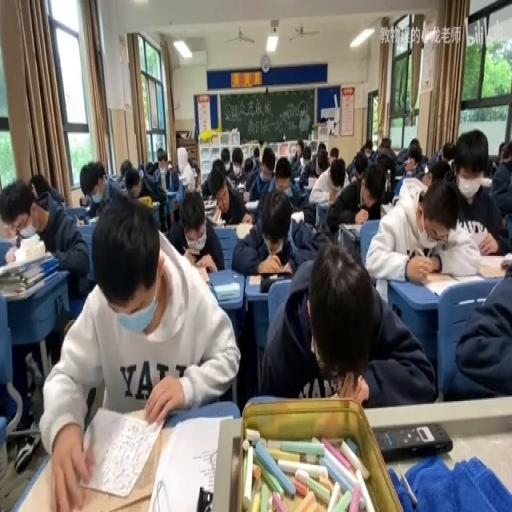calculator: (22, 405, 165, 509), (146, 414, 231, 512), (420, 272, 462, 297), (476, 252, 510, 277), (213, 282, 241, 300), (315, 199, 330, 226), (233, 222, 254, 240), (190, 266, 211, 283), (338, 220, 362, 234), (294, 184, 313, 199), (290, 210, 304, 228), (202, 196, 217, 209), (380, 200, 392, 214), (306, 175, 318, 188), (243, 199, 258, 209), (209, 216, 225, 225), (480, 176, 492, 188), (235, 182, 245, 192), (292, 174, 302, 184), (178, 174, 187, 184), (75, 216, 85, 225), (86, 216, 98, 223), (392, 172, 402, 179), (149, 199, 158, 206)
paper: (259, 243, 432, 407), (0, 173, 90, 414), (365, 178, 480, 286), (452, 263, 512, 401), (231, 189, 317, 277), (326, 156, 381, 232), (198, 162, 250, 228), (131, 154, 170, 228), (78, 158, 118, 222), (488, 138, 511, 225), (394, 136, 426, 176), (298, 144, 328, 186), (30, 174, 66, 208), (376, 152, 398, 196), (348, 138, 373, 175), (398, 173, 428, 202), (426, 158, 451, 186), (274, 158, 290, 193), (162, 160, 178, 190), (290, 138, 304, 165), (261, 148, 275, 175), (186, 150, 198, 180), (440, 142, 456, 164), (176, 145, 188, 174), (211, 158, 226, 179), (118, 159, 132, 178), (243, 156, 254, 180), (251, 145, 261, 168), (496, 140, 506, 160), (328, 146, 338, 164), (155, 148, 166, 163), (316, 142, 325, 158), (144, 161, 154, 175), (232, 161, 242, 175), (381, 136, 390, 150), (379, 149, 389, 161), (78, 195, 88, 206), (490, 160, 496, 176), (364, 144, 371, 155)
person: (374, 420, 451, 458), (259, 273, 291, 292), (196, 486, 213, 510)
